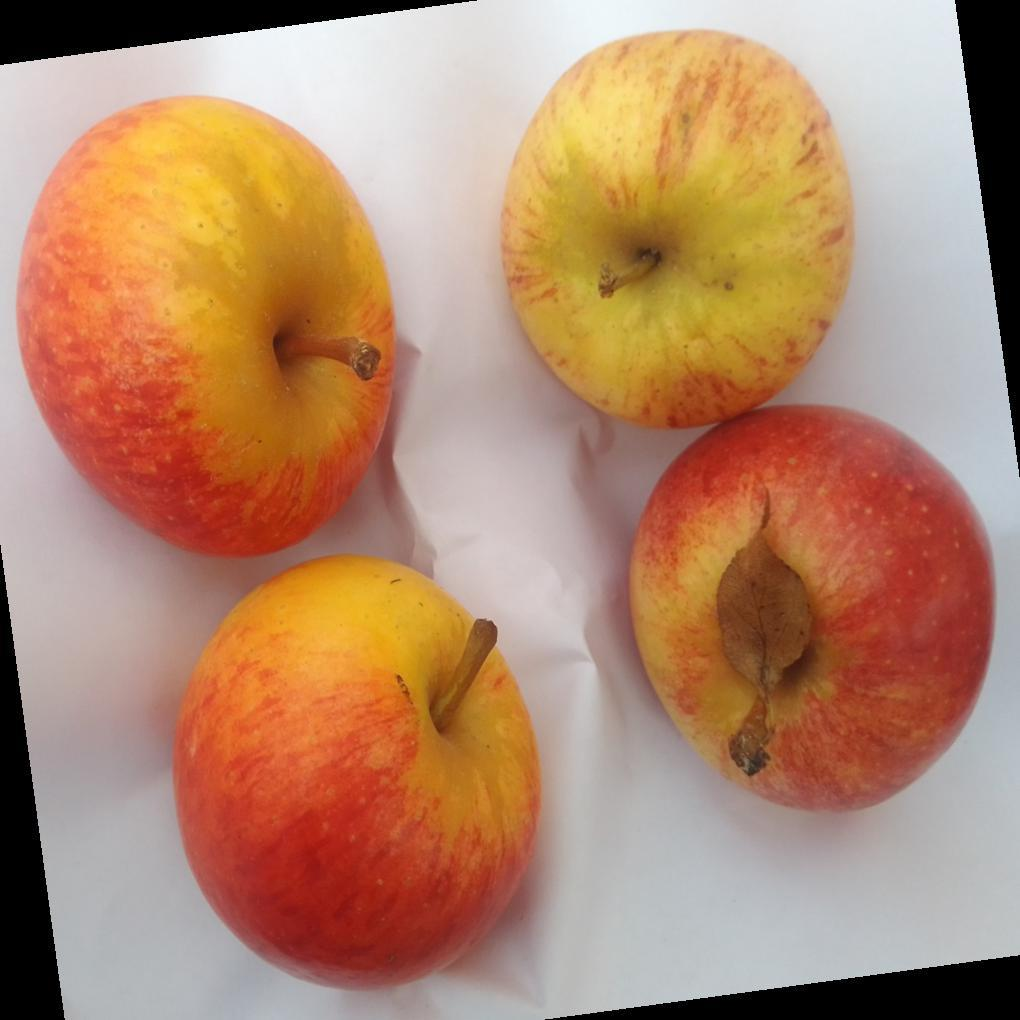FreshGuava: (501, 30, 997, 815), (17, 96, 398, 561), (176, 557, 542, 992)
